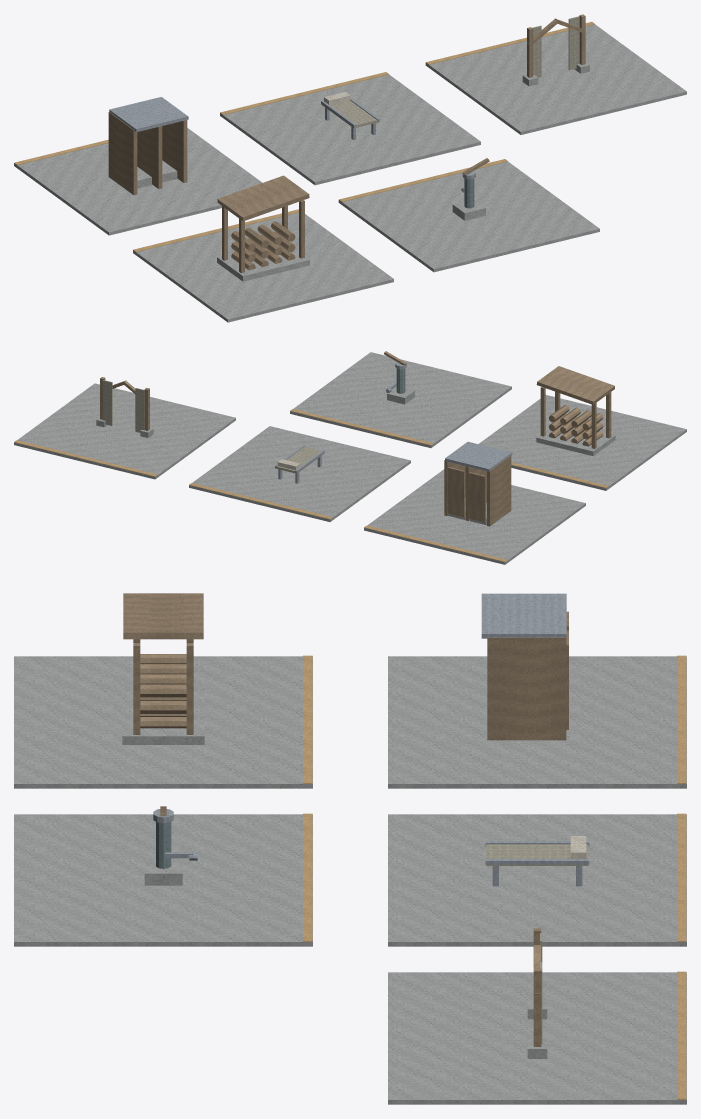
The model's file is level_blockout_kit_wld_01_p06.glb.
The picture shows the model from 3 angles, top to bottom: view 1: azimuth 30°, elevation 25°; view 2: azimuth 150°, elevation 25°; view 3: azimuth 270°, elevation 25°; orthographic projection. The views are drawn at different scales.
Parts seen in each view (by area): view 1: level_blockout_kit_wld_01_p06; view 2: level_blockout_kit_wld_01_p06; view 3: level_blockout_kit_wld_01_p06.
Part boxes in pixels (x1,y1,x2,y2): level_blockout_kit_wld_01_p06: [14, 14, 686, 322]; level_blockout_kit_wld_01_p06: [14, 351, 686, 564]; level_blockout_kit_wld_01_p06: [14, 593, 686, 1104].
Size of the model in its own units: 19.65 by 2.43 by 12.6.
7 materials, 7 textured.
